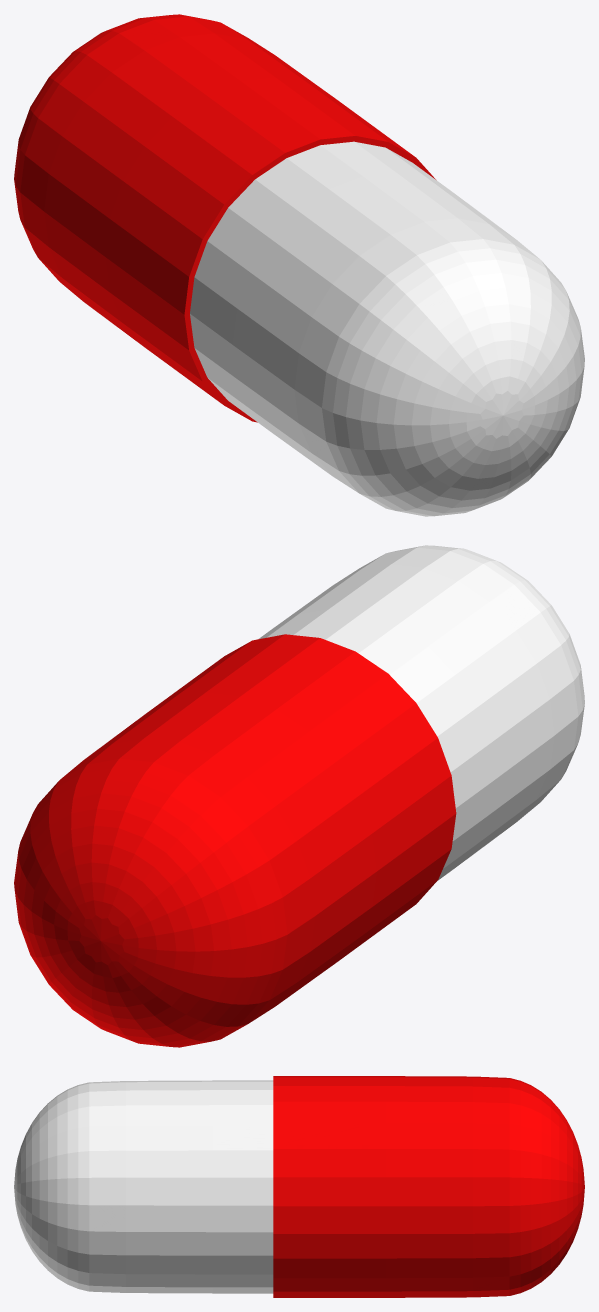
File: Pill.obj
3 renders of one model, top to bottom at view 1: azimuth 30°, elevation 25°; view 2: azimuth 150°, elevation 25°; view 3: azimuth 270°, elevation 25°, orthographic. The views are drawn at different scales.
Visible parts, largest first — view 1: Capsule001, Capsule002; view 2: Capsule002, Capsule001; view 3: Capsule002, Capsule001.
Part boxes in pixels (x1,y1,x2,y2): Capsule001: (190, 141, 584, 516); Capsule002: (14, 14, 435, 422); Capsule002: (14, 634, 456, 1047); Capsule001: (258, 545, 584, 880); Capsule002: (273, 1076, 584, 1297); Capsule001: (14, 1080, 273, 1293).
Size of the model in its own units: 191572 by 191572 by 491135.
